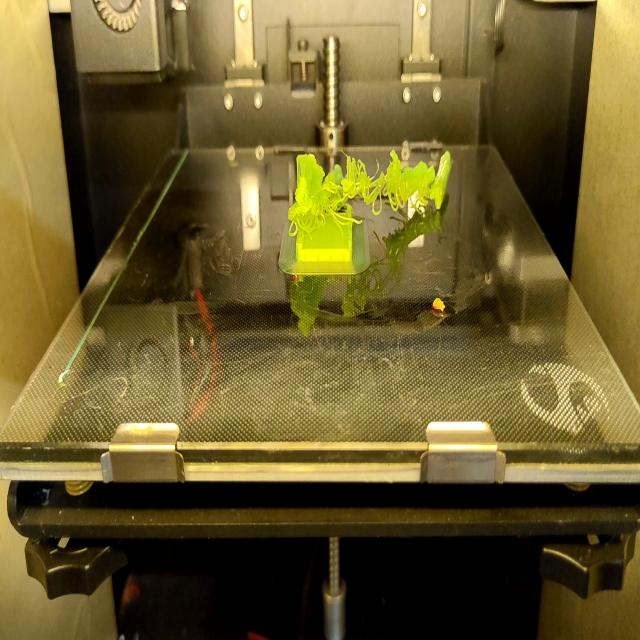spaghetti: (285, 147, 435, 239)
